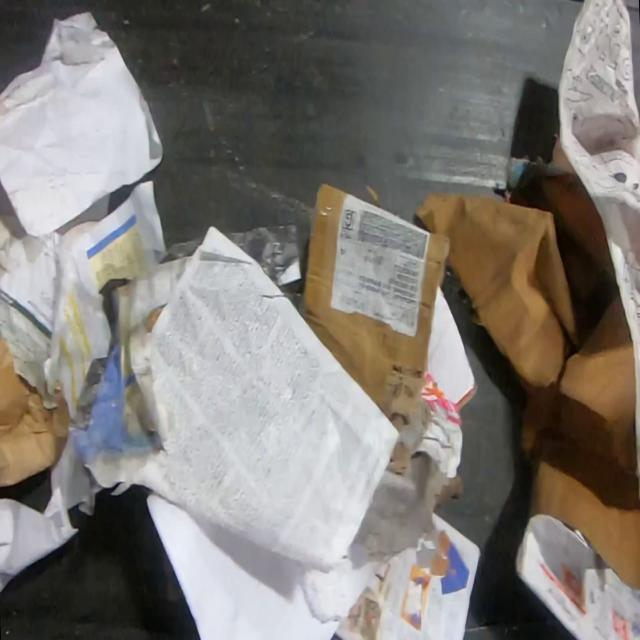cardboard: (413, 160, 640, 594), (302, 183, 451, 433), (0, 213, 27, 257)
